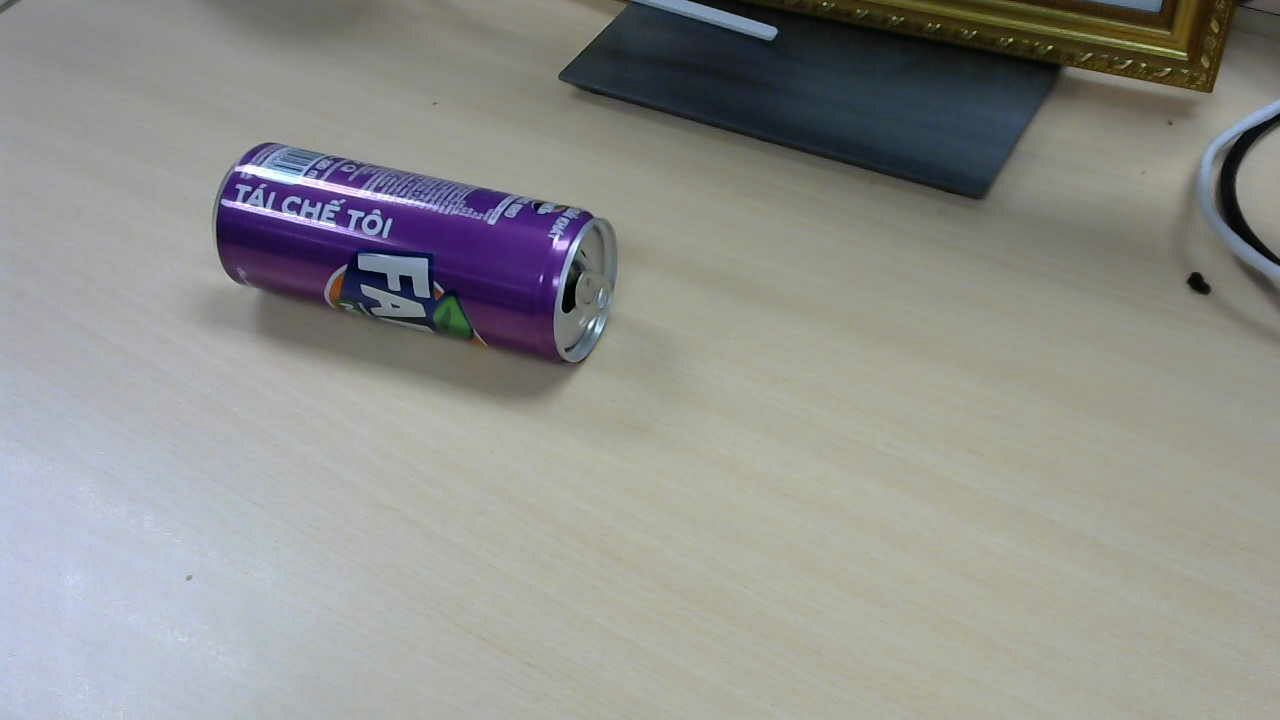Fanta: (218, 145, 626, 370)
